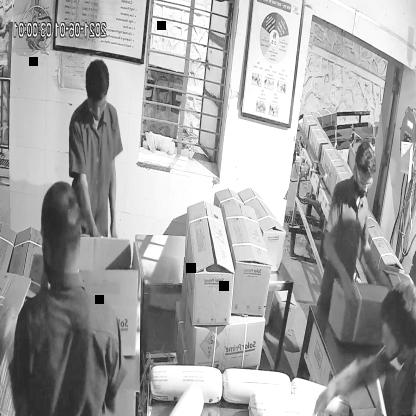goggles: (351, 166, 378, 197)
